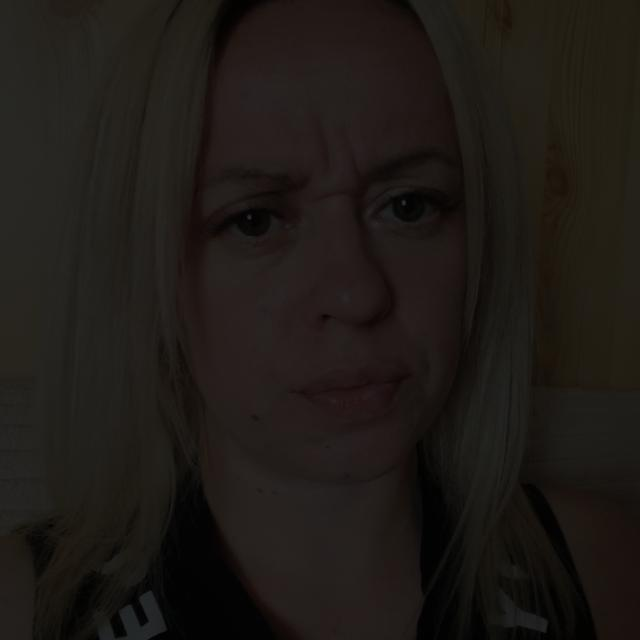Disgust: (140, 85, 594, 483)
